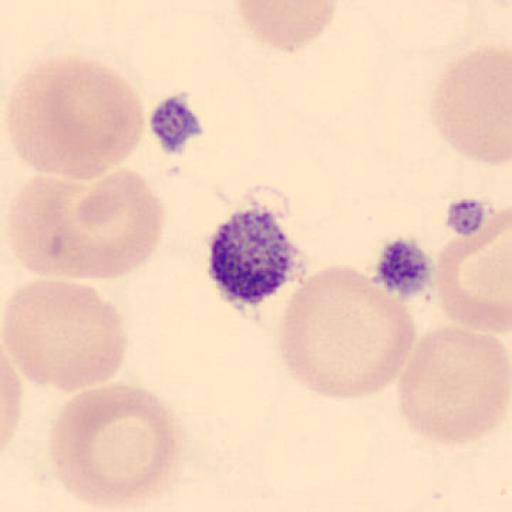Platelet: (204, 202, 311, 311), (370, 235, 436, 304), (146, 89, 205, 156)
RBC: (276, 262, 418, 404), (3, 52, 145, 182), (4, 168, 166, 281), (47, 381, 186, 512), (395, 324, 512, 448), (3, 278, 129, 393), (51, 168, 167, 282), (432, 204, 512, 333), (429, 42, 512, 164), (229, 0, 338, 52), (0, 350, 23, 456)
